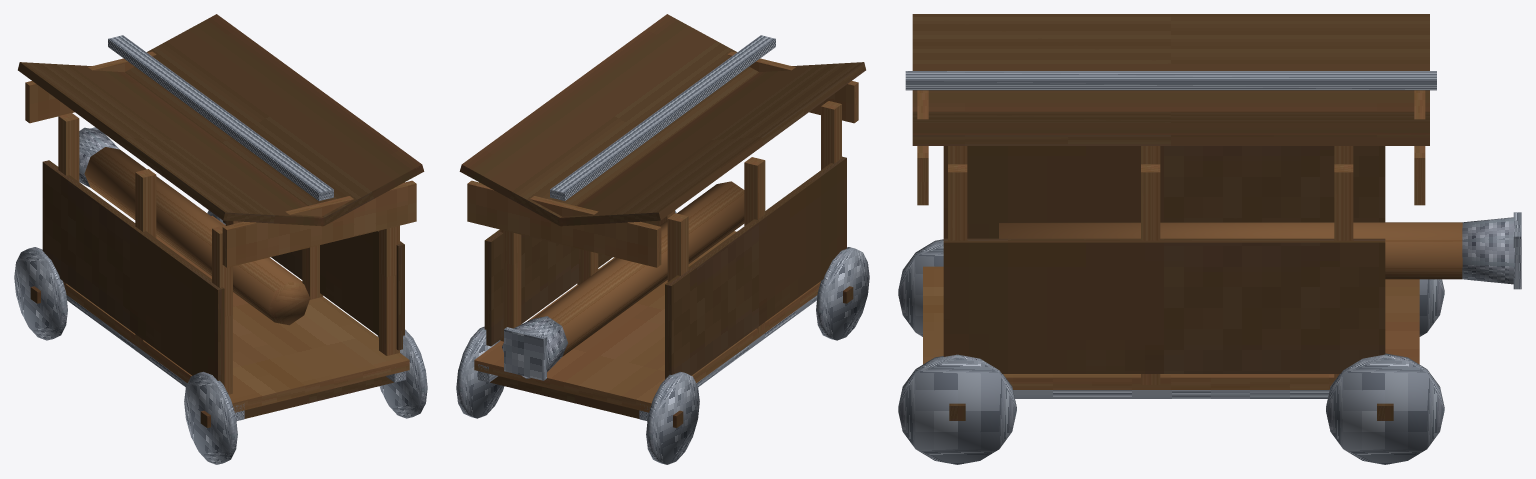
Rendered from ae_ram_iron_lod2.glb.
3 views of the same model, side by side, from view 1: azimuth 30°, elevation 25°; view 2: azimuth 150°, elevation 25°; view 3: azimuth 270°, elevation 25° (orthographic). The views are drawn at different scales.
Parts seen in each view (by area): view 1: roofR, wallL, roofL, floor, log_core, gable_r, wallR, ridge, wheel_RL_tyre, wheel_FL_tyre, post_1_0, wheel_RR_tyre (+8 smaller); view 2: roofR, wallL, roofL, floor, log_core, gable_f, wallR, ridge, wheel_FL_tyre, wheel_RL_tyre, wheel_FR_tyre, head_plate (+9 smaller); view 3: wallR, roofL, wallL, roofR, ridge, log_core, wheel_RR_tyre, wheel_FR_tyre, floor, ram_head, runnerR, wheel_RL_tyre (+6 smaller).
Part boxes in pixels (bbox=[...]): roofR: bbox=[125, 14, 424, 225]; wallL: bbox=[42, 160, 224, 386]; roofL: bbox=[18, 62, 325, 226]; floor: bbox=[65, 215, 409, 412]; log_core: bbox=[84, 147, 310, 325]; gable_r: bbox=[222, 180, 416, 267]; wallR: bbox=[223, 220, 404, 350]; ridge: bbox=[108, 35, 333, 200]; wheel_RL_tyre: bbox=[184, 371, 237, 464]; wheel_FL_tyre: bbox=[14, 247, 67, 340]; post_1_0: bbox=[379, 225, 399, 355]; wheel_RR_tyre: bbox=[378, 329, 427, 418]; roofR: bbox=[459, 14, 758, 225]; wallL: bbox=[665, 156, 846, 379]; roofL: bbox=[558, 62, 865, 226]; floor: bbox=[474, 231, 820, 412]; log_core: bbox=[533, 181, 744, 356]; gable_f: bbox=[467, 180, 661, 267]; wallR: bbox=[484, 221, 657, 346]; ridge: bbox=[550, 35, 775, 200]; wheel_FL_tyre: bbox=[646, 371, 699, 464]; wheel_RL_tyre: bbox=[816, 247, 869, 340]; wheel_FR_tyre: bbox=[456, 326, 504, 418]; head_plate: bbox=[504, 327, 546, 380]; wallR: bbox=[943, 238, 1385, 373]; roofL: bbox=[912, 14, 1429, 111]; wallL: bbox=[943, 146, 1385, 238]; roofR: bbox=[912, 111, 1429, 145]; ridge: bbox=[905, 71, 1436, 90]; log_core: bbox=[999, 222, 1462, 279]; wheel_RR_tyre: bbox=[898, 354, 1016, 464]; wheel_FR_tyre: bbox=[1326, 353, 1444, 464]; floor: bbox=[923, 266, 1419, 389]; ram_head: bbox=[1462, 217, 1514, 284]; runnerR: bbox=[1013, 390, 1329, 398]; wheel_RL_tyre: bbox=[898, 239, 943, 336].
Size of the model in its own units: 2.15 by 2.64 by 4.52.
2 materials, 2 textured.
